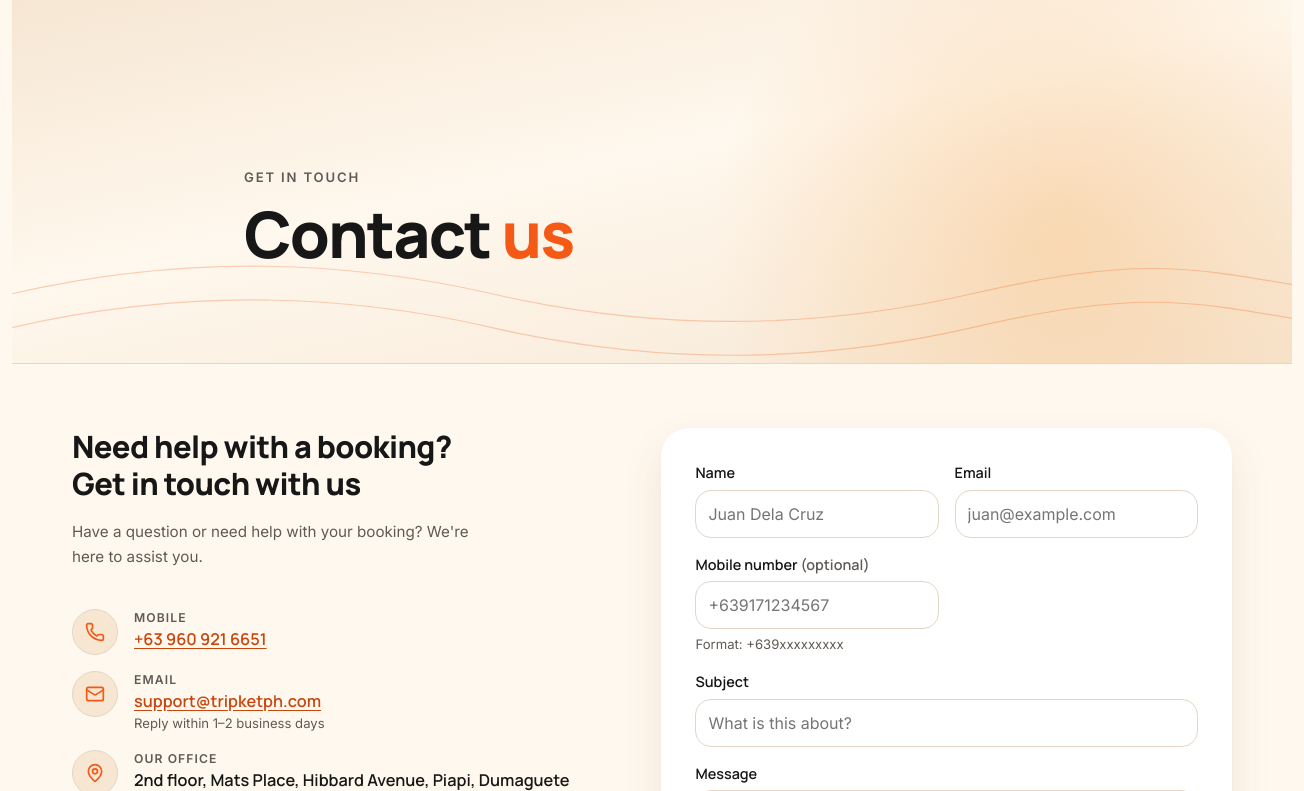
Scenario: when the send does not work › a field the server rejects is shown against that field, and nothing is lost
The width and height of the screenshot is (1304, 791).
Type "Maria Santos" into the field labelled "Name" at (817, 514), box [695,490,939,538]
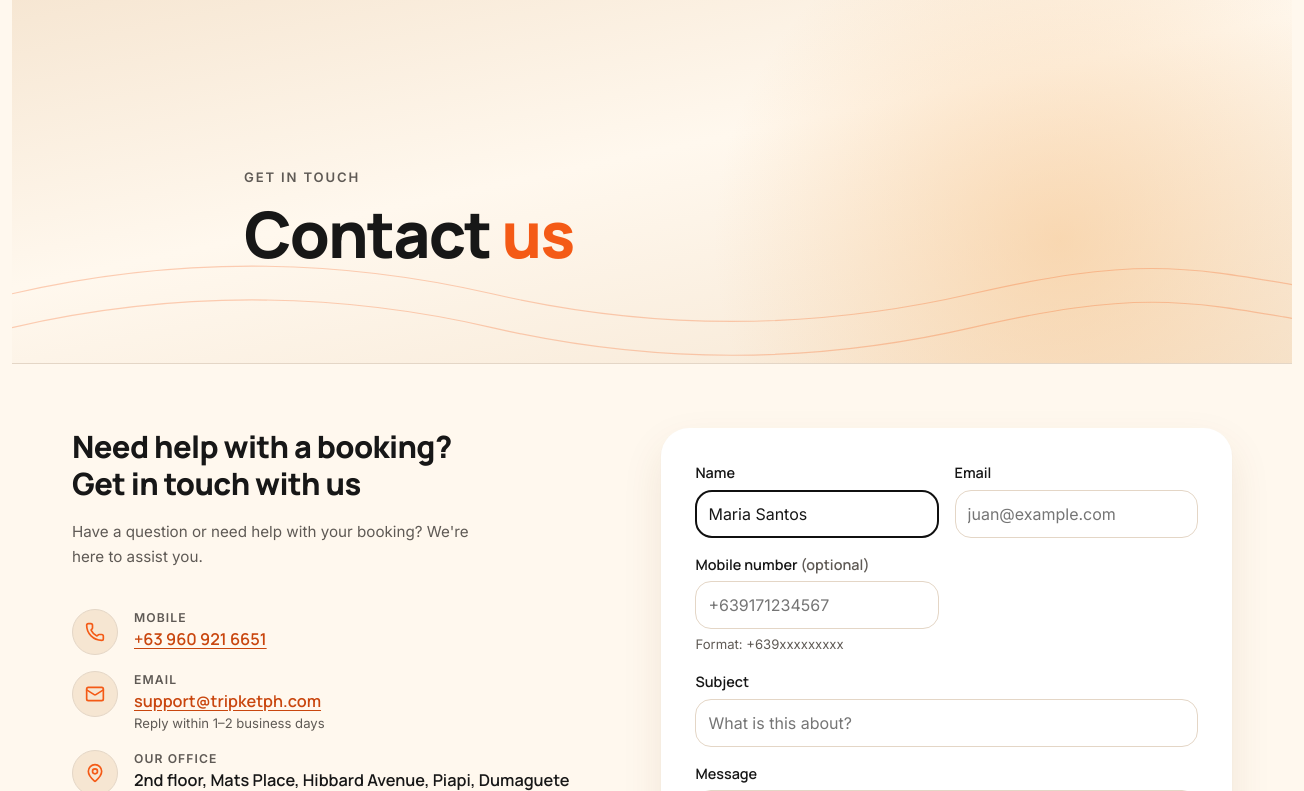
Type "maria@example.com" into the field labelled "Email" at (1076, 514), box [955,490,1198,538]
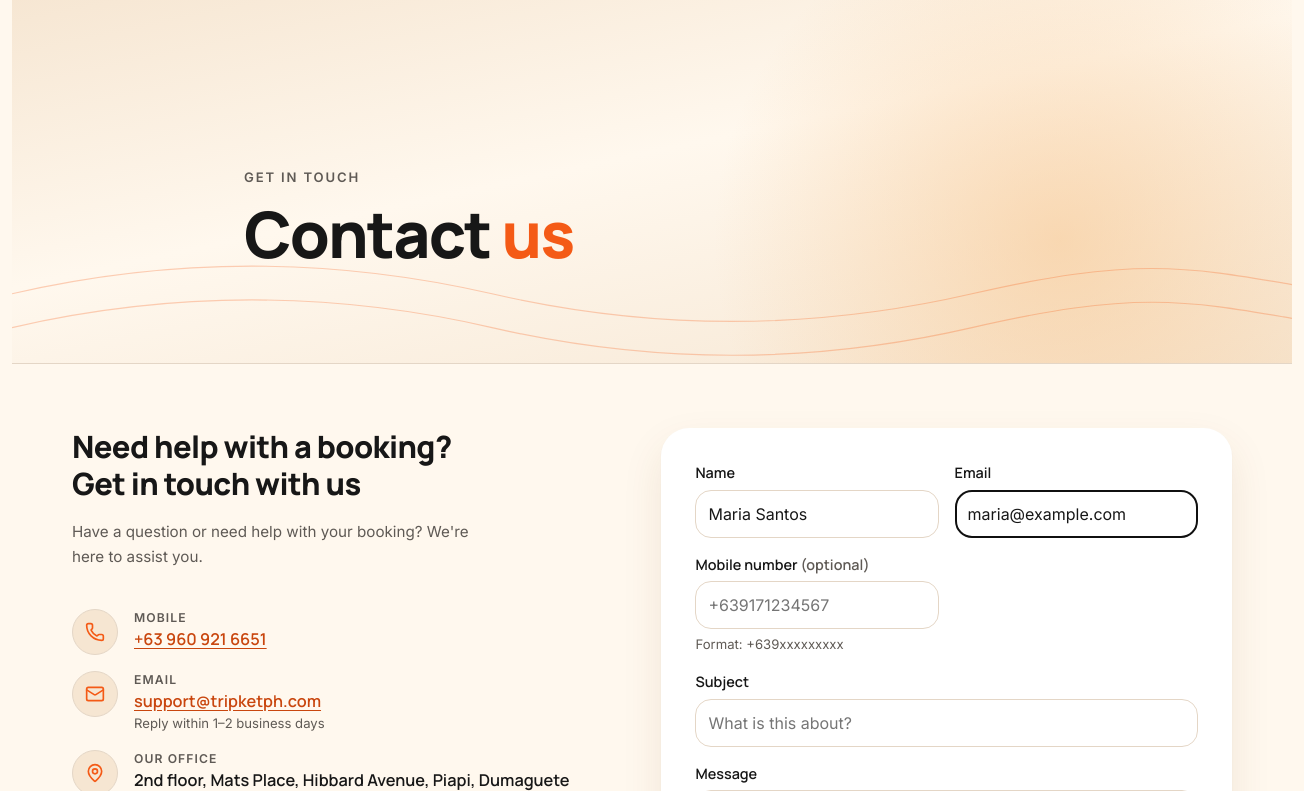
Type "Missing ticket" into the field labelled "Subject" at (947, 723), box [695,699,1198,747]
(page scrolled)
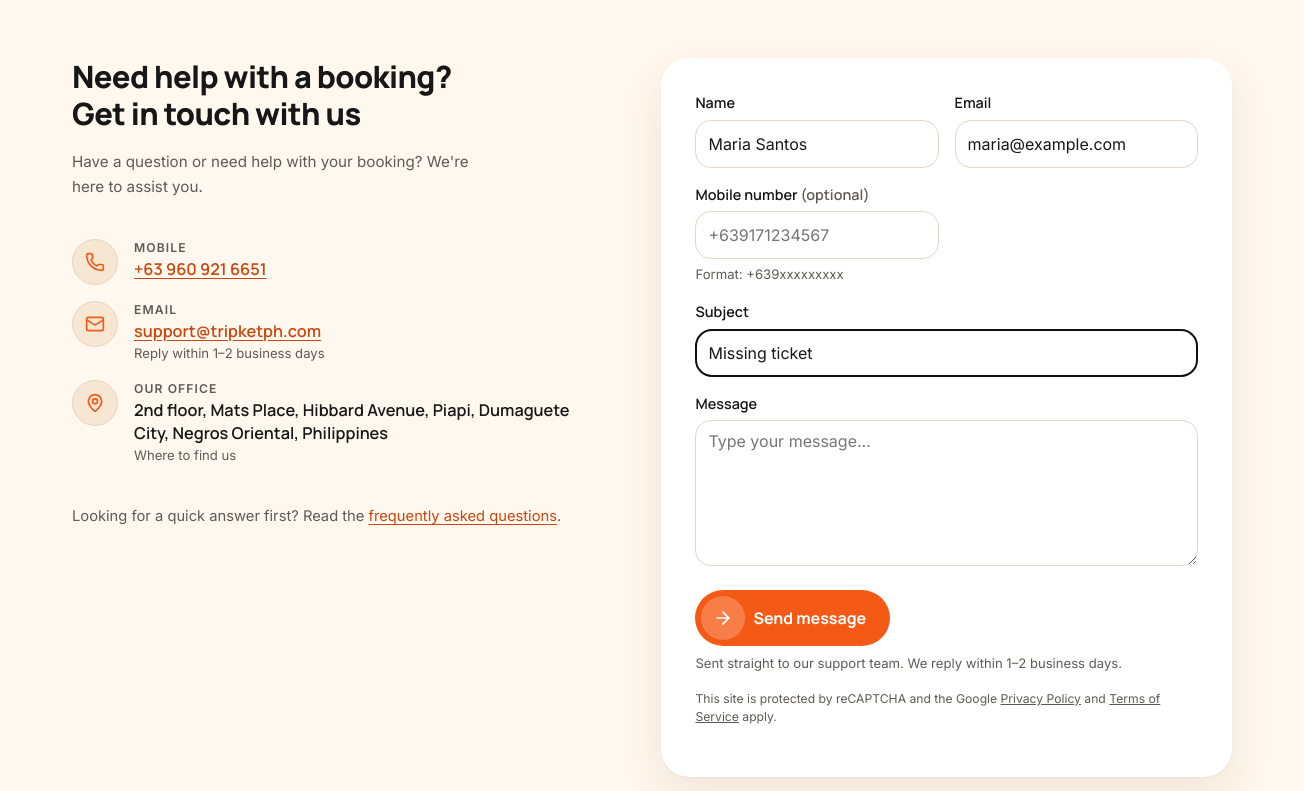
Type "Where is my ticket?" into the text box labelled "Message" at (947, 493), box [695,420,1198,566]
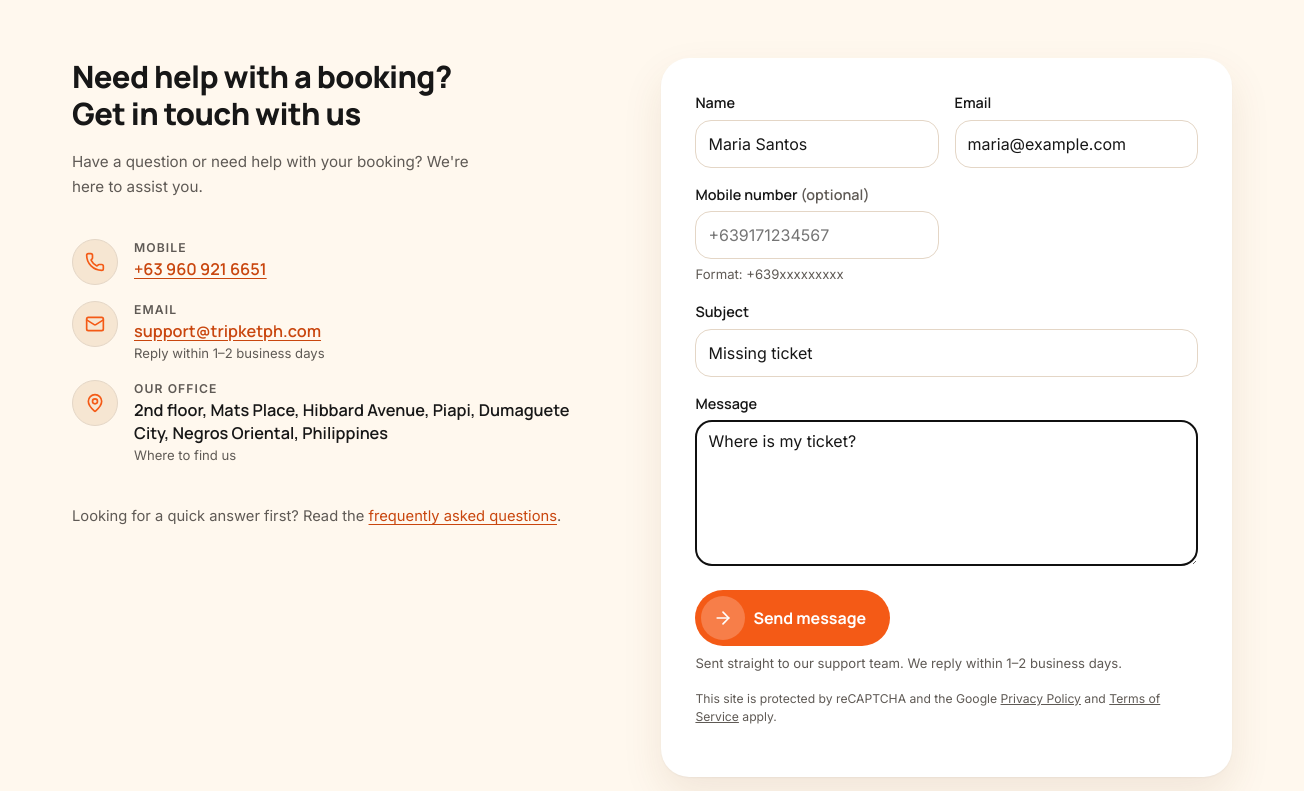
Click the button "Send message" at (793, 618), box [695,590,890,646]
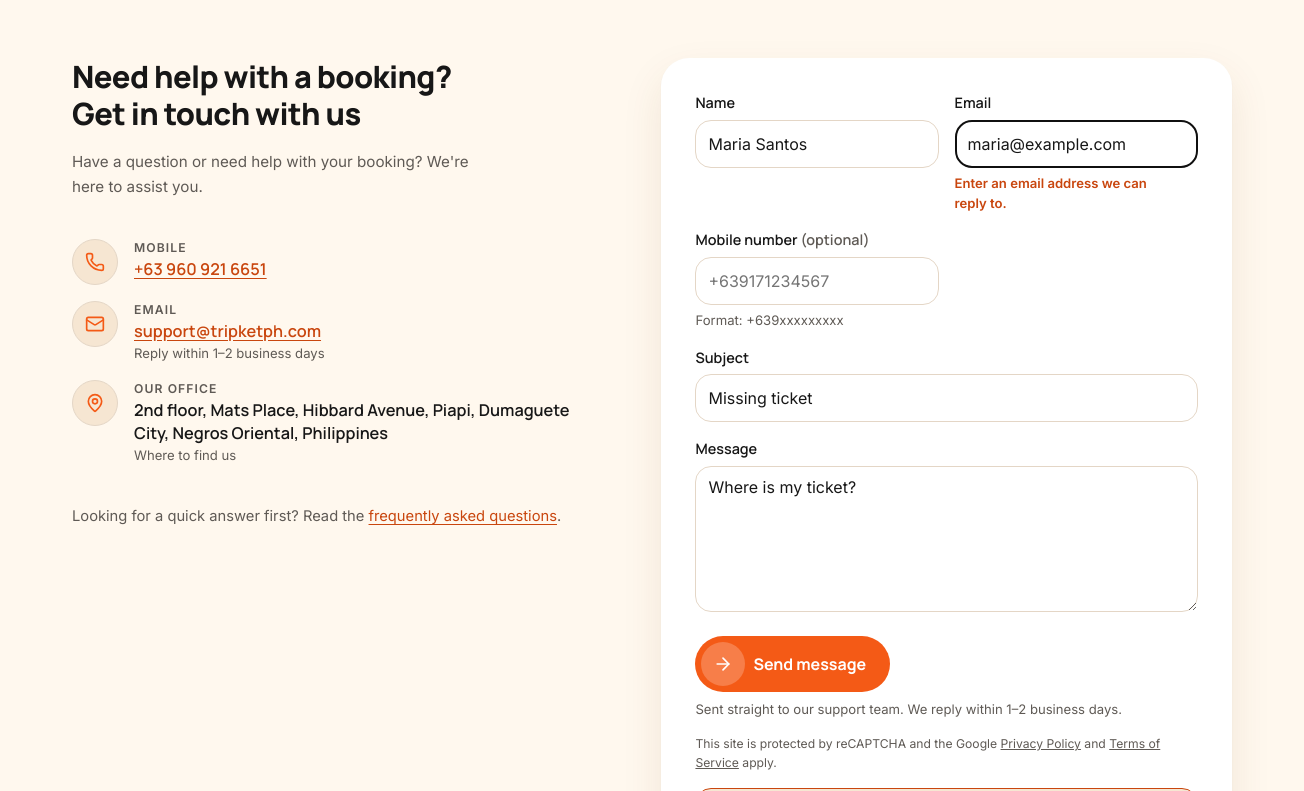
Expected: the text "Enter an email address we can reply to." is shown, [955,175,1147,210]
